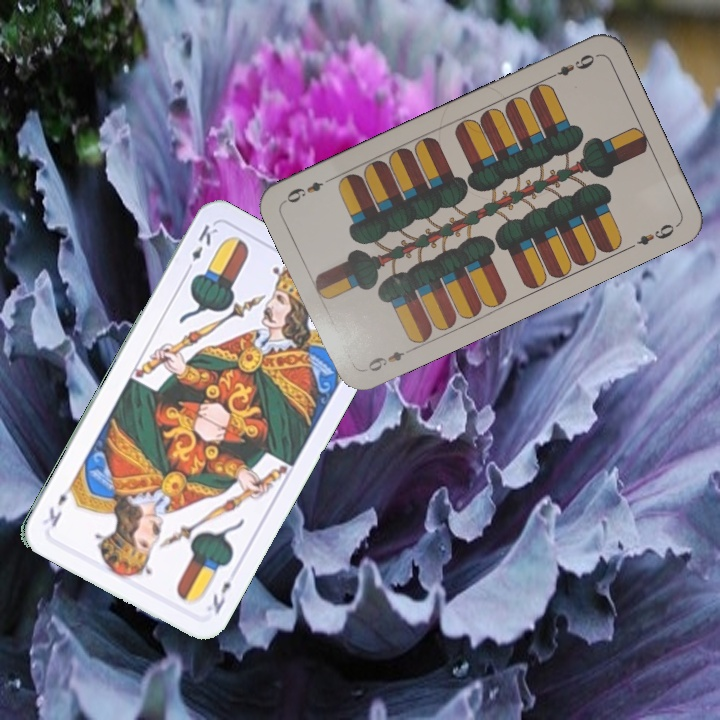E9: (544, 50, 600, 82), (363, 346, 407, 374)
EK: (181, 220, 221, 276), (208, 577, 234, 617)
